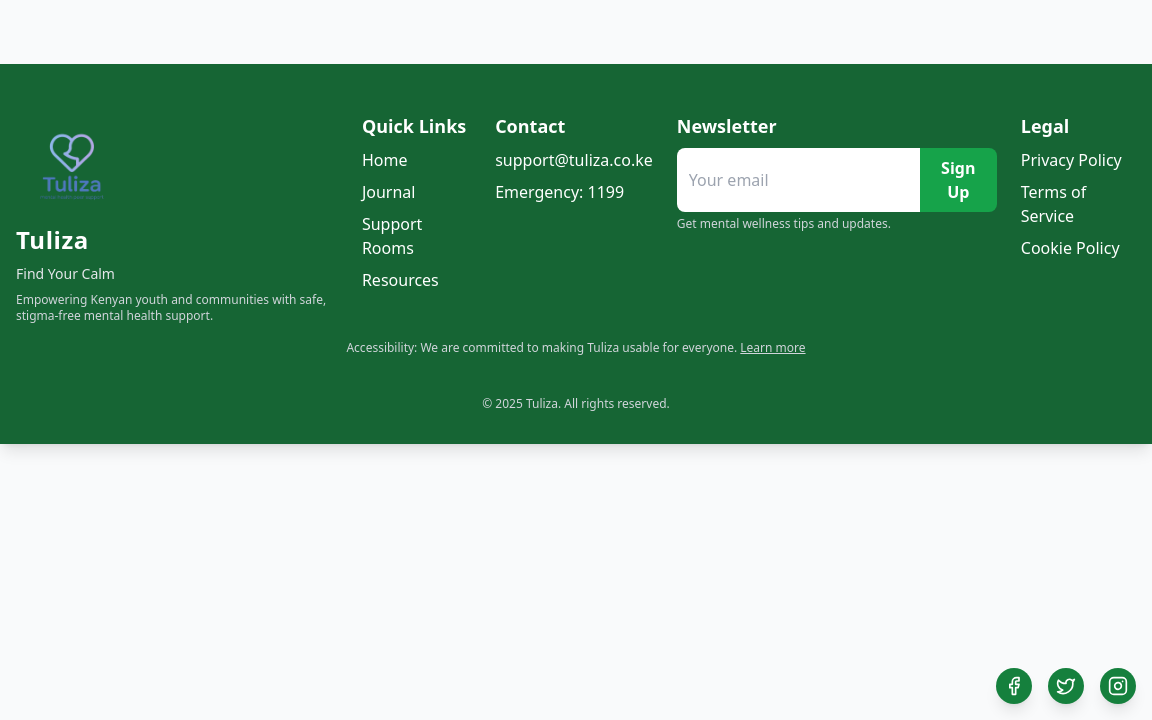
Test: Footer Component › shows error if newsletter email is empty
The width and height of the screenshot is (1152, 720).
Click the button "Sign Up": (958, 180) [920,148,997,212]
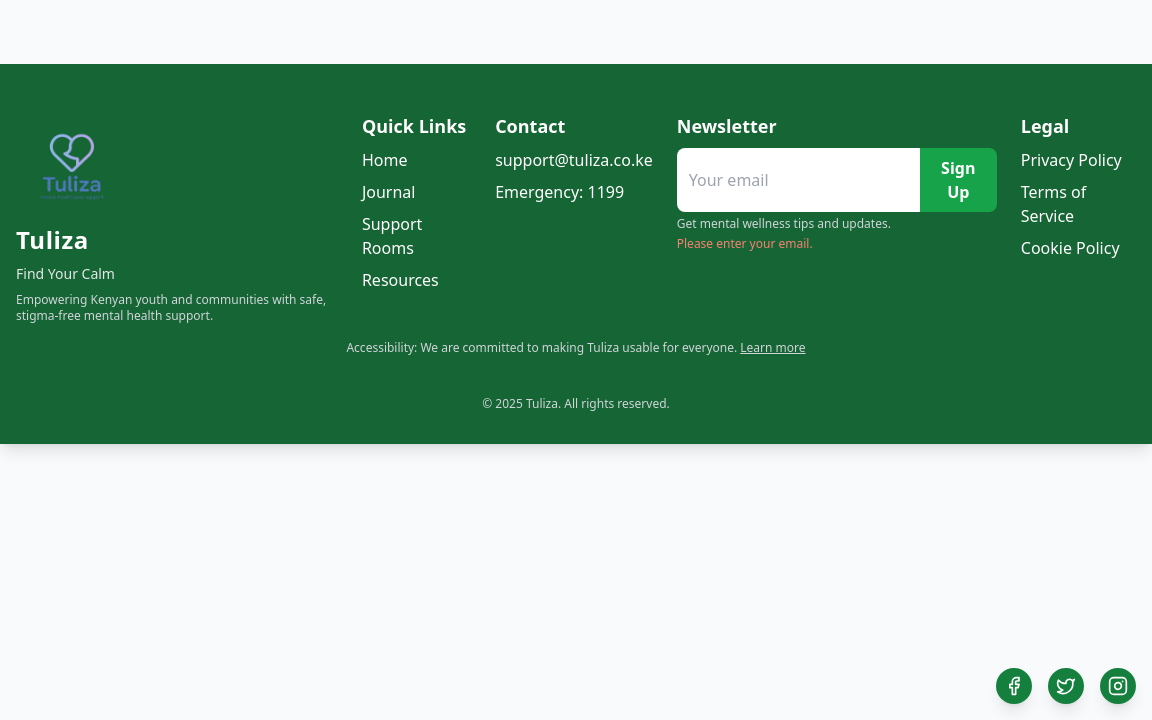
expect the text "Please enter your email." is shown: met, box [677,236,813,252]
